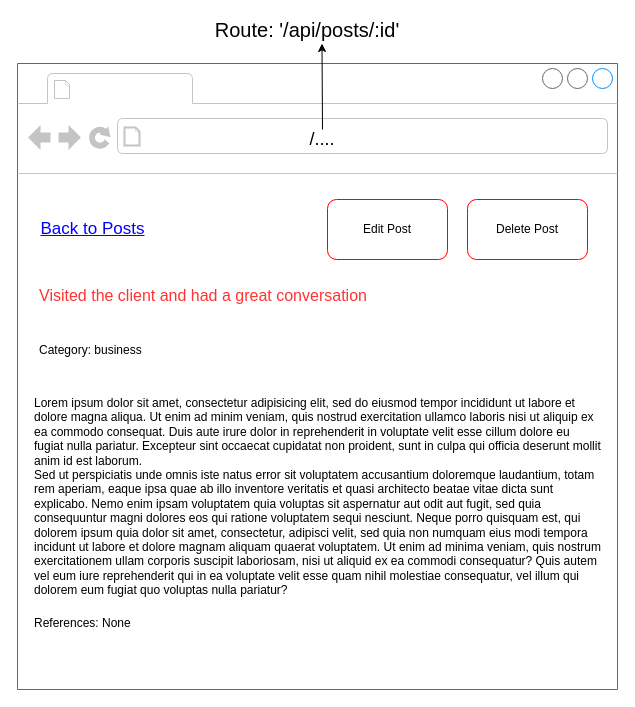
The diagram is 635 pixels wide and 707 high, and some of its shapes have lost their labels. Each missing label, with the box of its shape:
https://www.draw.io: (146, 122, 398, 150)
Page 1: (76, 74, 188, 102)
